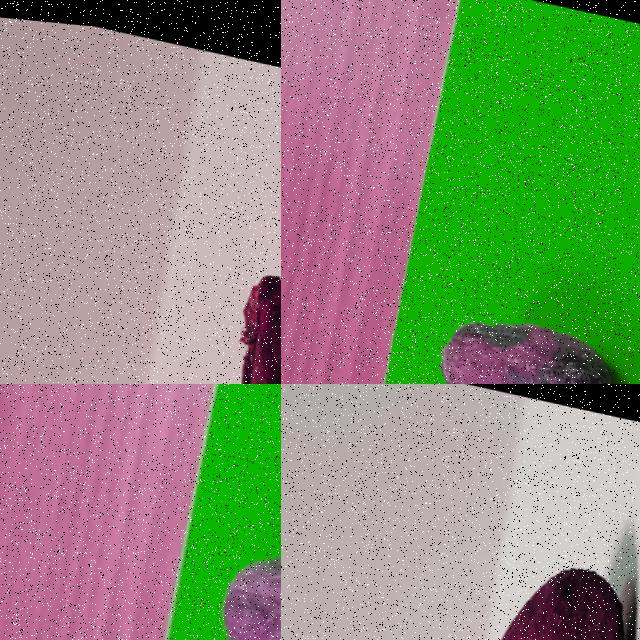Fine_cocoabeans: (418, 176, 639, 383), (419, 517, 639, 639), (181, 445, 280, 639)
Flat_cocoabeans: (173, 219, 280, 383)
